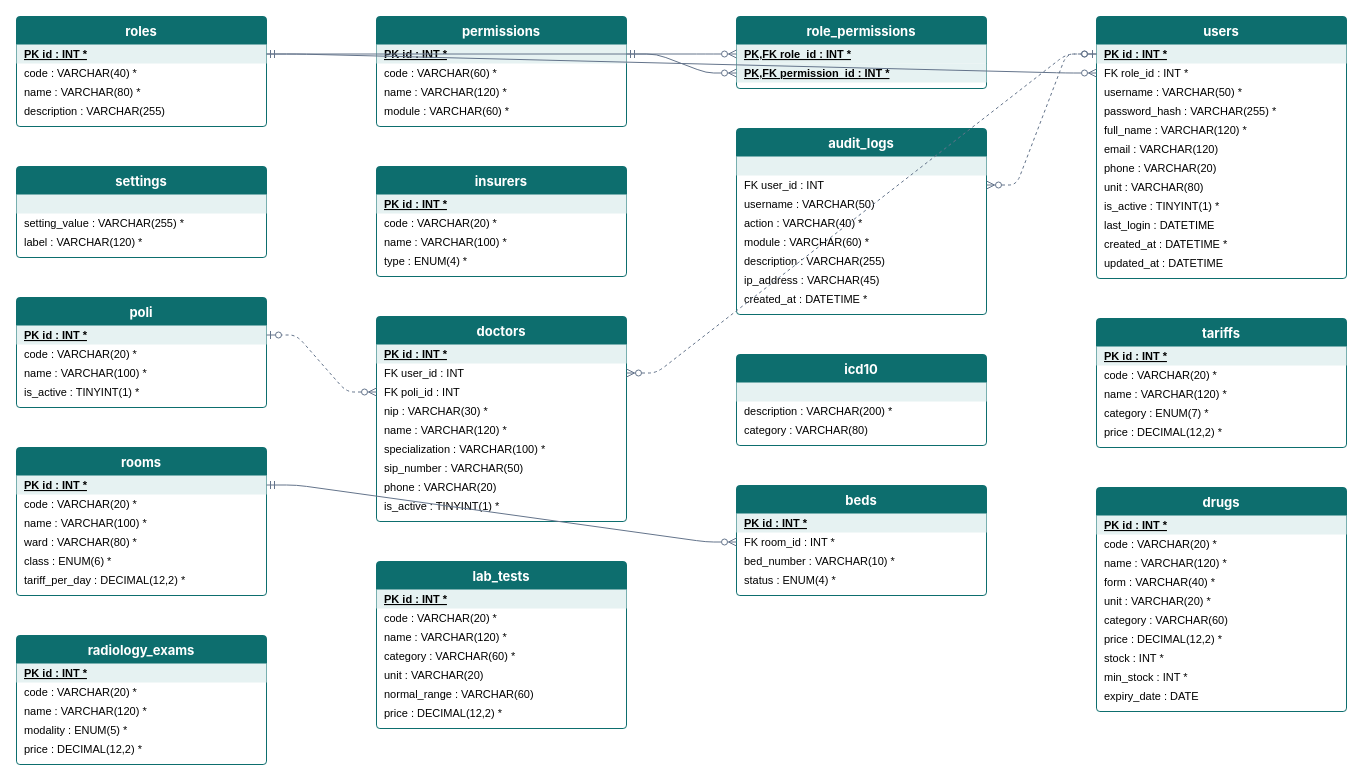
This 1363x781 diagram has some shape labels left out. The shapes that lost their labels are listed below. From the top down, each one's centre as x and y in pixels, then its label:
(861,165): PK id : BIGINT *
(141,203): PK setting_key : VARCHAR(60) *
(861,391): PK code : VARCHAR(10) *
